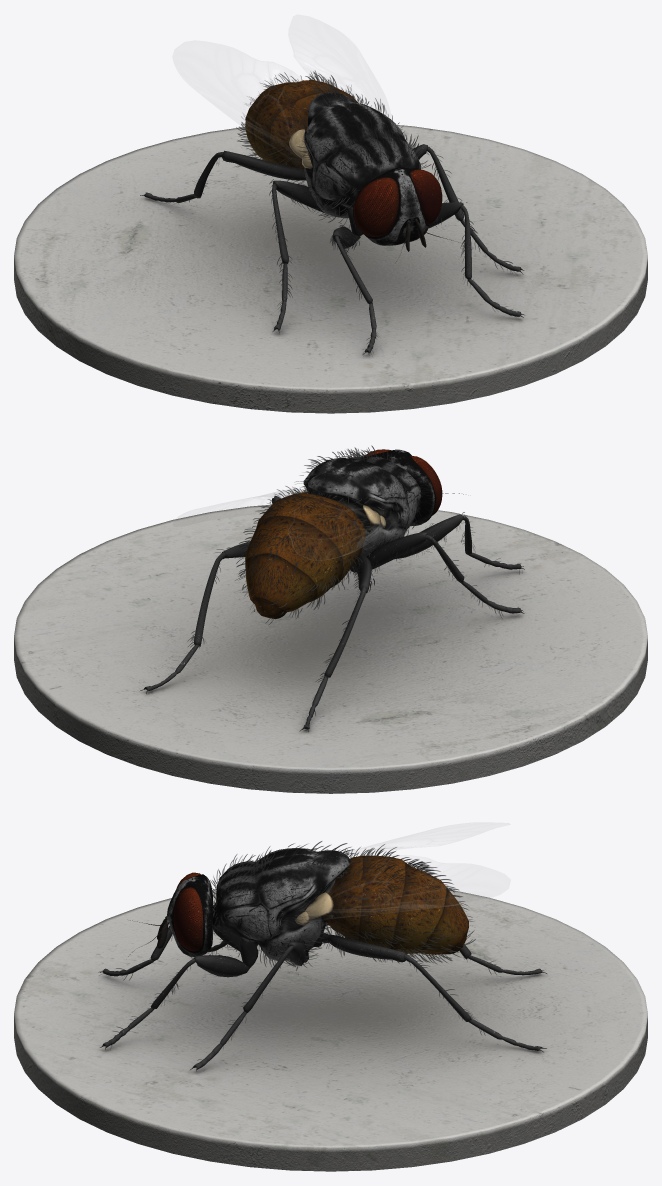
File: housefly.glb
The picture shows the model from 3 angles, top to bottom: view 1: azimuth 30°, elevation 25°; view 2: azimuth 150°, elevation 25°; view 3: azimuth 270°, elevation 25°; orthographic projection.
Parts seen in each view (by area): view 1: Cylinder001, Object008_MultiMat_0_0, Object008_MultiMat_0h_0, Object008_MultiMat_0d_0; view 2: Cylinder001, Object008_MultiMat_0_0, Object008_MultiMat_0h_0; view 3: Cylinder001, Object008_MultiMat_0_0, Object008_MultiMat_0h_0, Object008_MultiMat_0d_0.
Part boxes in pixels (bbox=[...]): Cylinder001: bbox=[14, 125, 647, 413]; Object008_MultiMat_0_0: bbox=[140, 80, 524, 355]; Object008_MultiMat_0h_0: bbox=[145, 70, 517, 354]; Object008_MultiMat_0d_0: bbox=[173, 16, 390, 159]; Cylinder001: bbox=[14, 504, 647, 793]; Object008_MultiMat_0_0: bbox=[140, 449, 524, 731]; Object008_MultiMat_0h_0: bbox=[187, 445, 522, 730]; Cylinder001: bbox=[14, 889, 647, 1171]; Object008_MultiMat_0_0: bbox=[100, 848, 546, 1071]; Object008_MultiMat_0h_0: bbox=[98, 841, 496, 1060]; Object008_MultiMat_0d_0: bbox=[311, 825, 510, 918].
Bounding box in the file's own units: 1.2 × 0.4056 × 1.2.
Materials: 4 (4 with a texture image).
